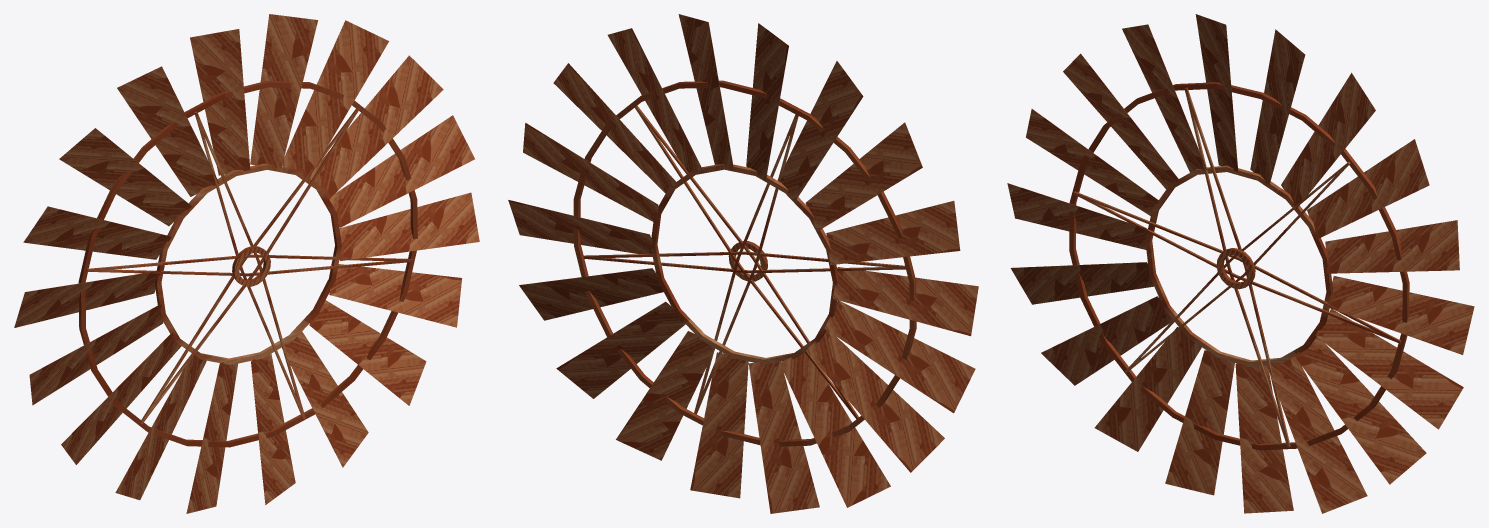
The model's file is rueda_molino.obj.
3 views of the same model, side by side, from view 1: azimuth 30°, elevation 25°; view 2: azimuth 150°, elevation 25°; view 3: azimuth 330°, elevation 25° (orthographic).
Parts seen in each view (by area): view 1: rueda_molino:ventilateur; view 2: rueda_molino:ventilateur; view 3: rueda_molino:ventilateur.
Boxes of the visible parts, x1,y1,x2,y2 form: rueda_molino:ventilateur: [14, 14, 479, 513]; rueda_molino:ventilateur: [508, 14, 978, 513]; rueda_molino:ventilateur: [1007, 14, 1474, 513].
Bounding box in the file's own units: 225 × 225 × 11.83.
1 material, 1 textured.
